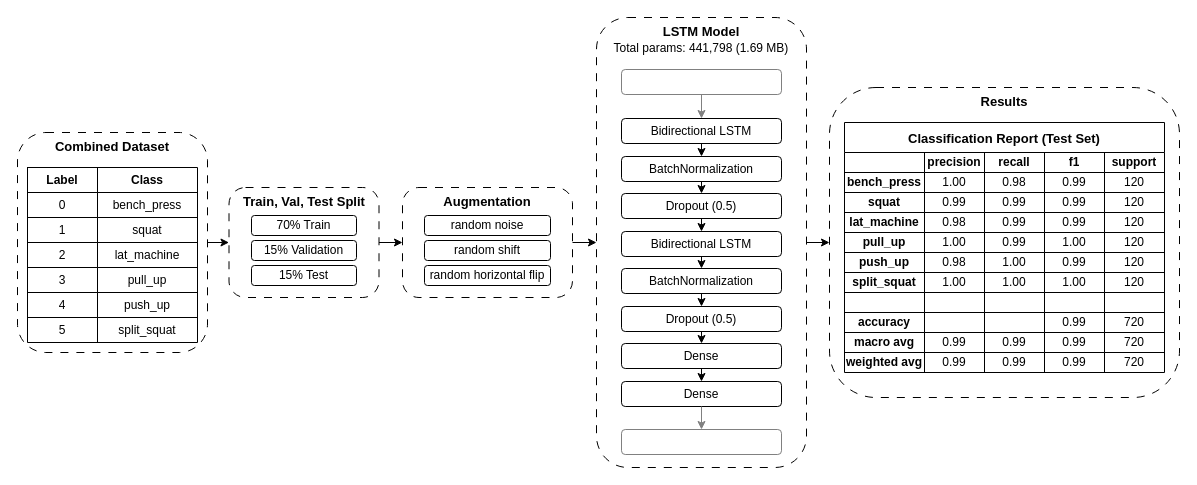
Some shapes in this 1197 by 485 pixel diagram are drawn without their labels. Here are the shapes that lost their labels. From the top down, the centre of each, then its label:
(x=701, y=81): Sequence (30, 132)
(x=701, y=441): Classification [0, ..., 5]
